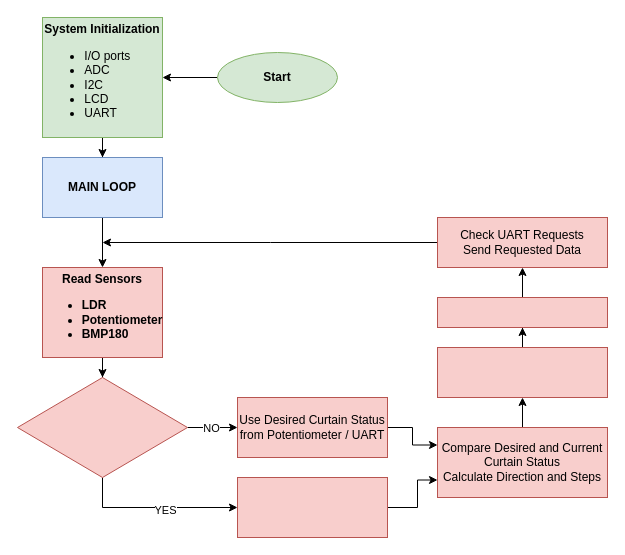
Some shapes in this 625 by 555 pixel diagram are drawn without their labels. Here are the shapes that lost their labels. From the top down, the centre of each, then its label:
the point at 522,312: Update LCD Display
the point at 522,372: Rotate Step Motor Update Current Curtain Status
the point at 102,427: Light Intensity < Threshold?
the point at 312,507: Set Desired Curtain Status = 100%
